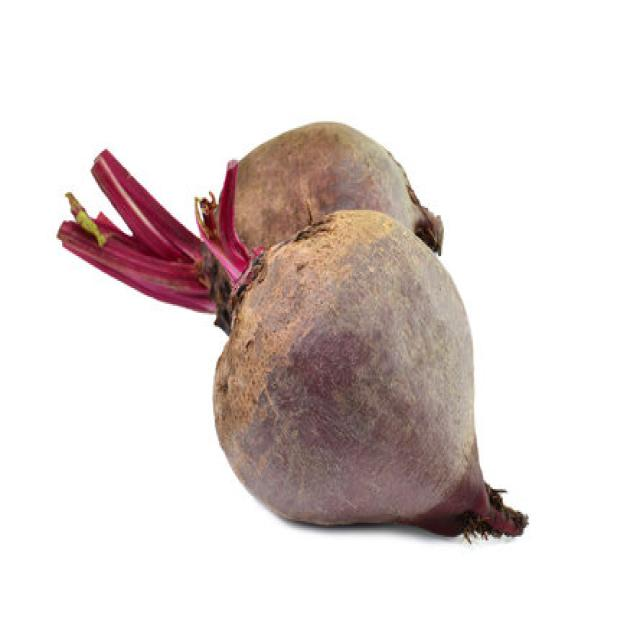Beetroot: (206, 213, 534, 551), (203, 118, 443, 319)
